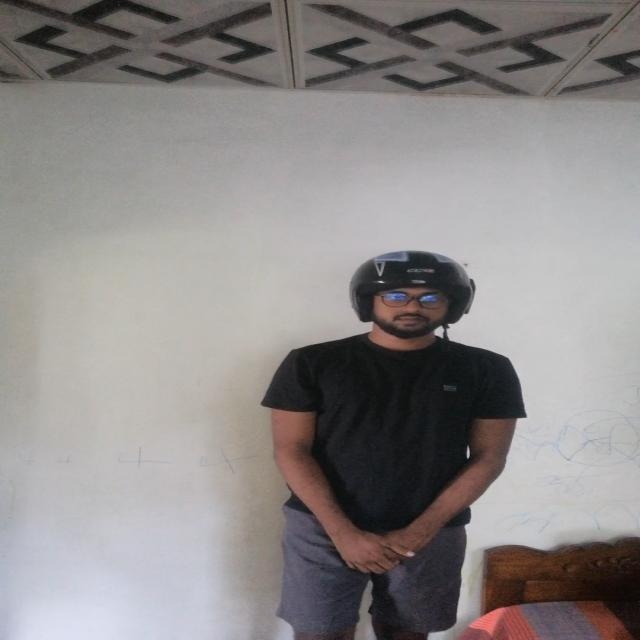Helmet_Wearer: (344, 244, 480, 358)
Person: (253, 250, 517, 638)
